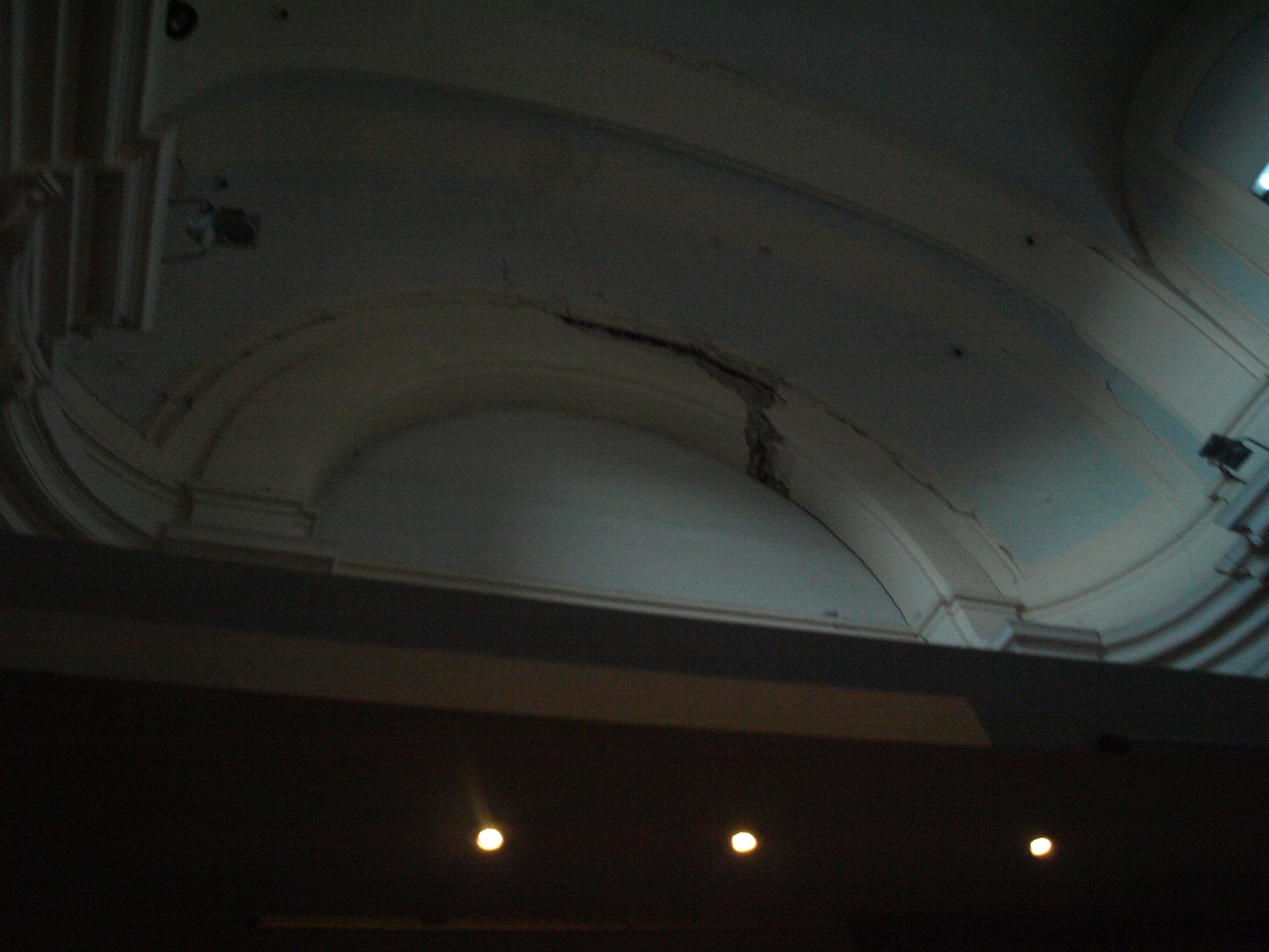Crack: (494, 275, 1062, 611)
